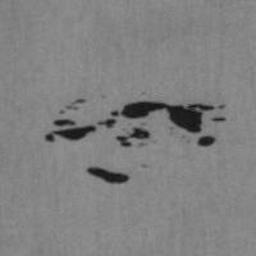Inclusion: (44, 97, 228, 148), (87, 166, 131, 184), (59, 97, 87, 114), (140, 163, 150, 168)
